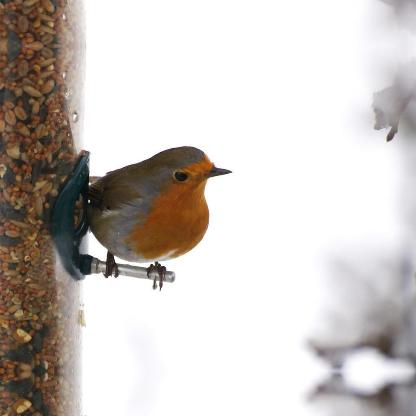Bird: (46, 146, 244, 290)
